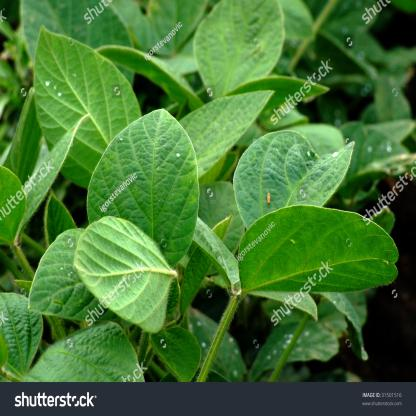soybean leaf: (230, 196, 404, 306), (83, 105, 197, 272), (35, 18, 142, 188), (232, 123, 359, 249), (70, 210, 182, 330)
